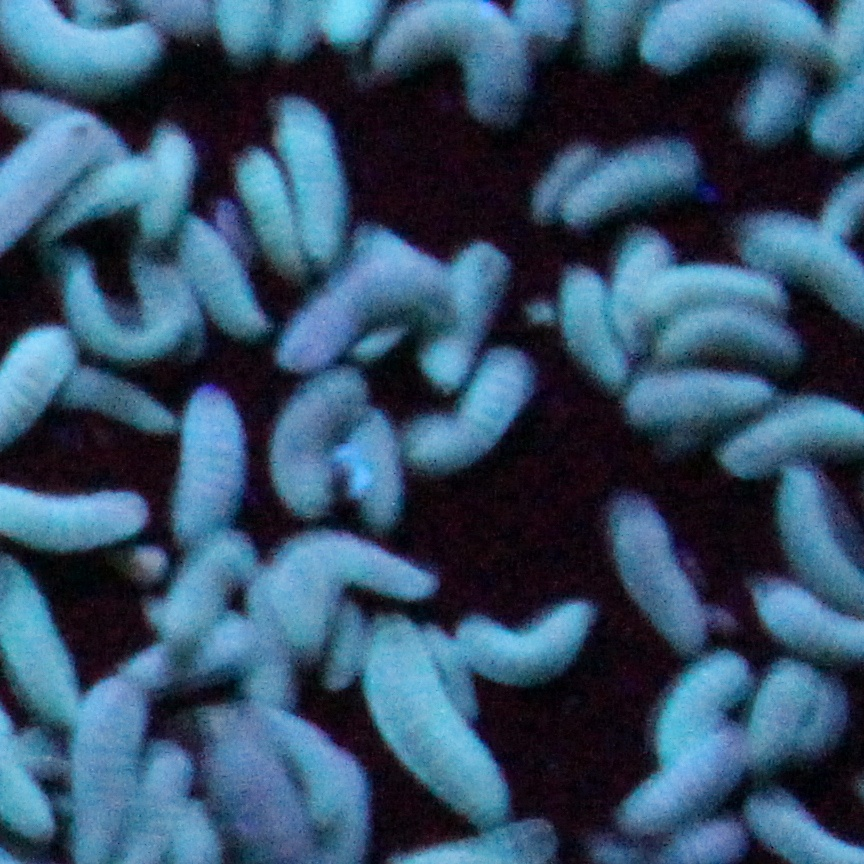larve: (359, 612, 521, 832), (399, 340, 544, 478), (602, 488, 719, 654), (264, 83, 362, 272), (264, 360, 371, 526), (614, 724, 760, 839), (560, 130, 707, 233), (164, 383, 247, 558), (423, 240, 523, 382), (449, 600, 609, 684), (614, 363, 780, 439), (229, 140, 316, 280), (64, 364, 161, 437), (138, 125, 193, 251)
